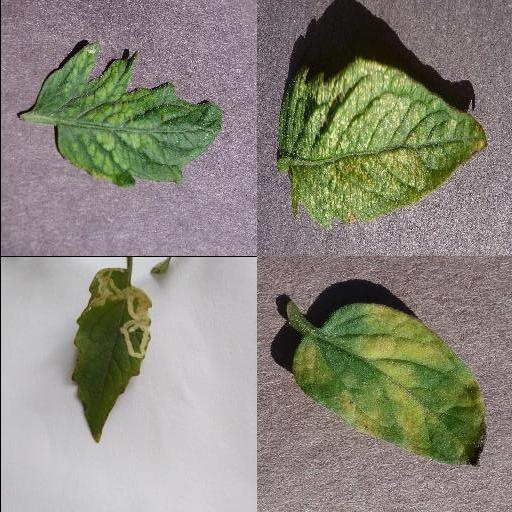Leaf Miner: (68, 267, 154, 441)
Leaf Mold: (291, 304, 487, 468)
Mosaic Virus: (34, 43, 224, 190)
Spider Mites: (274, 55, 488, 225)
